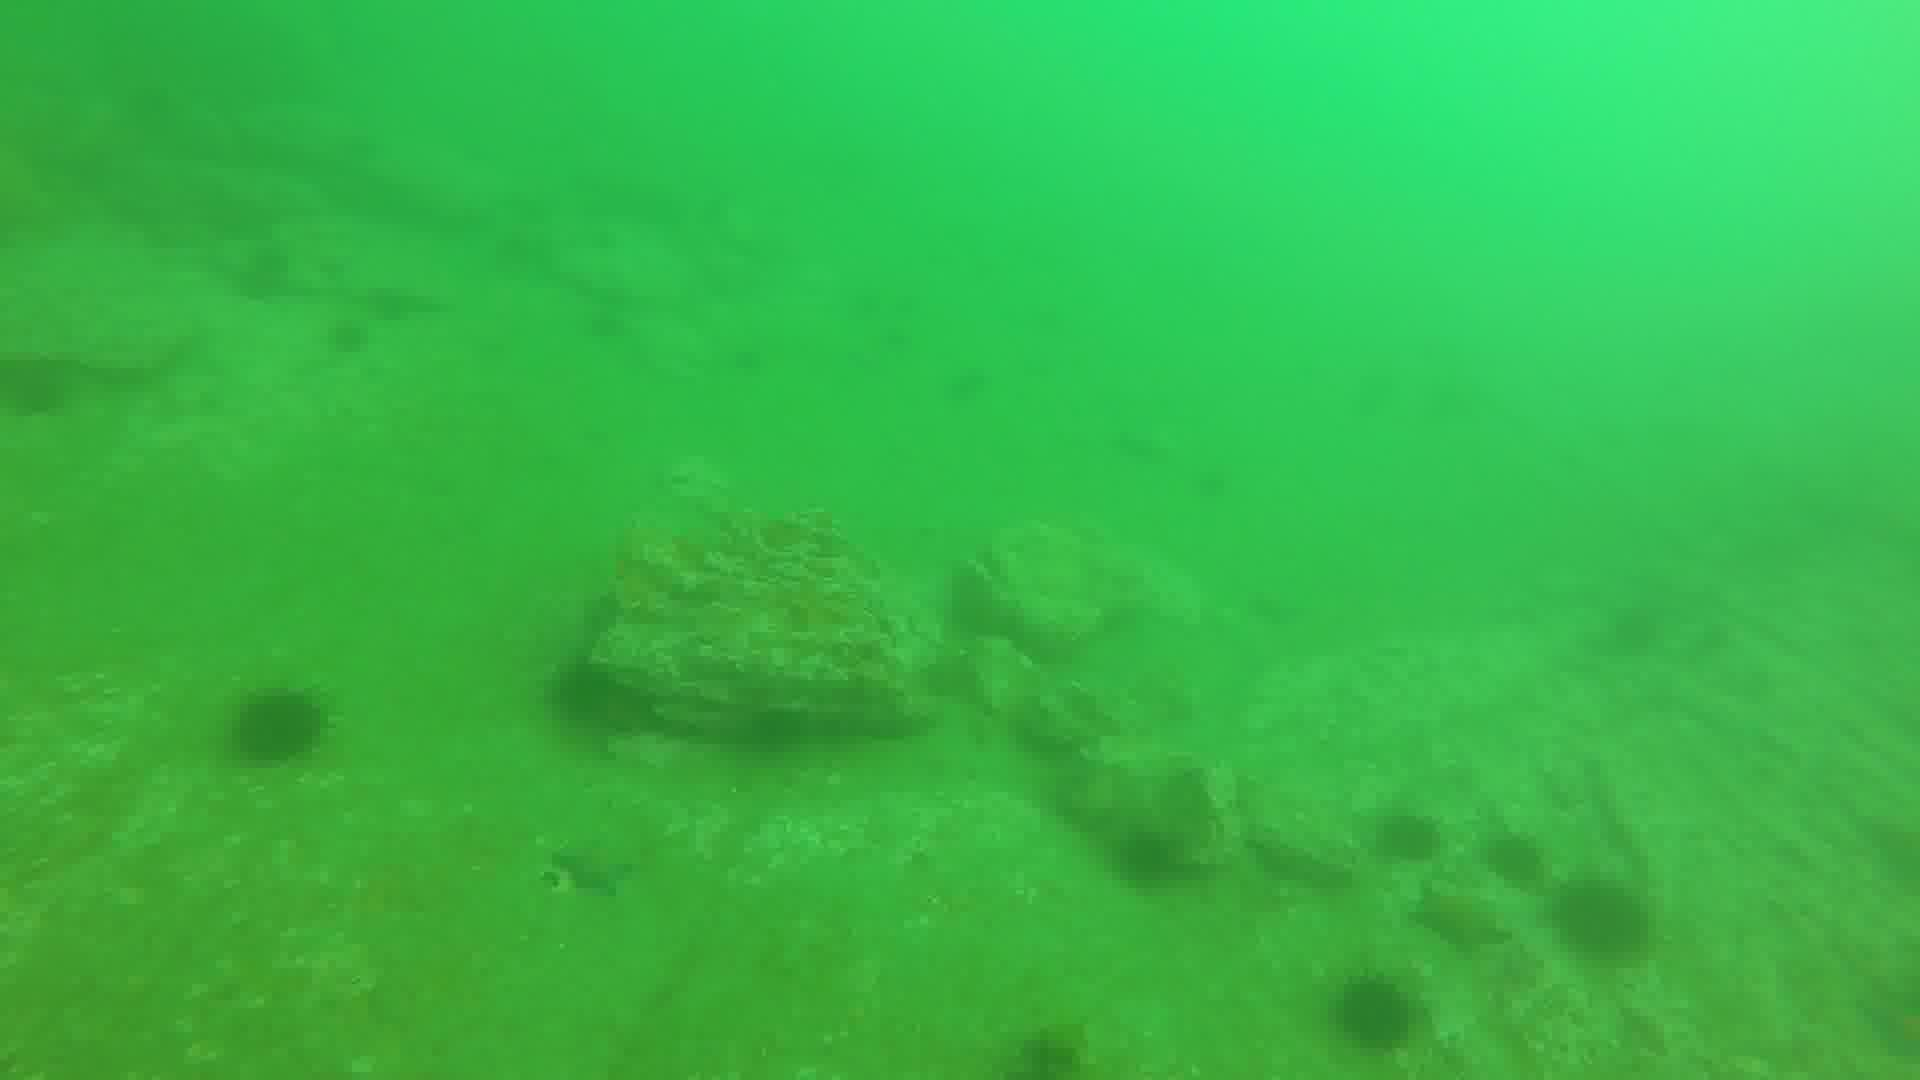echinus: (1553, 881, 1655, 961), (229, 690, 323, 770), (1338, 975, 1418, 1054), (1006, 1029, 1106, 1080), (1375, 804, 1451, 862), (1478, 831, 1549, 890), (1, 359, 67, 419), (324, 313, 376, 357)
starfish: (549, 836, 640, 897)
